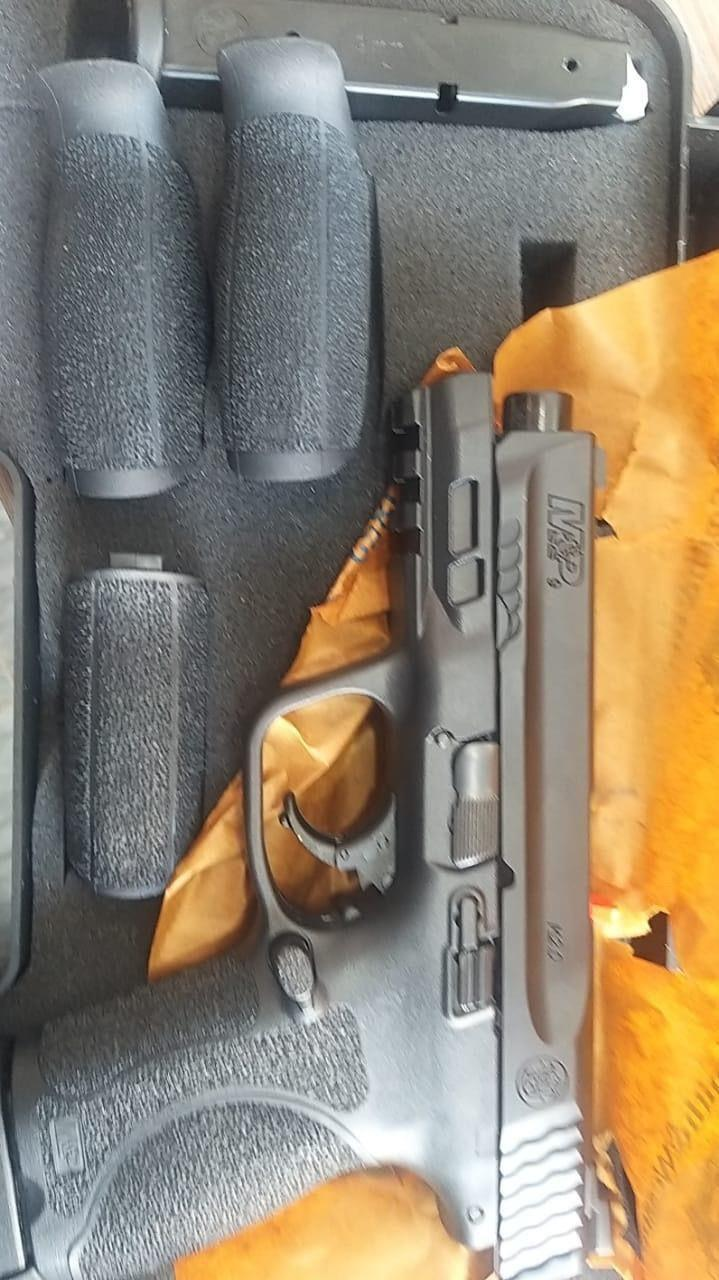weapon: (0, 373, 618, 1280)
